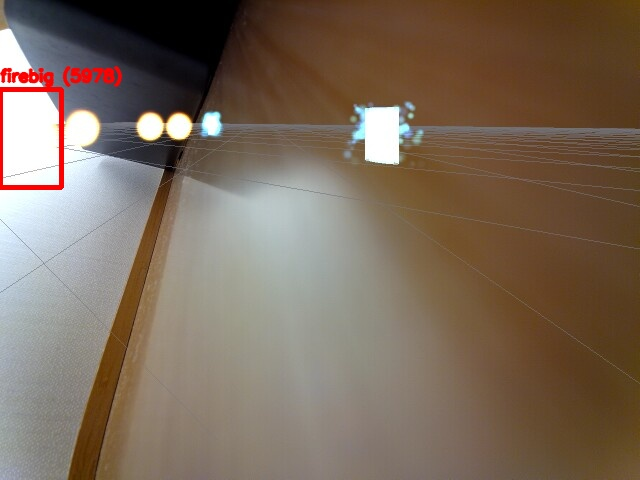firebig: (0, 89, 61, 187)
